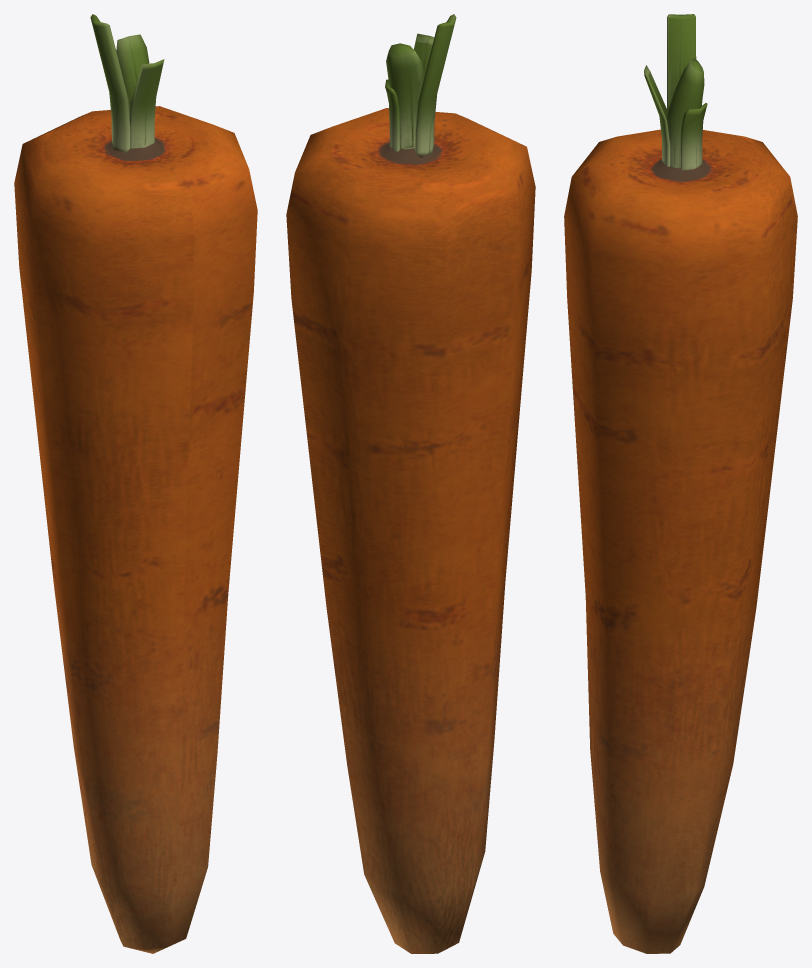
Rendered from carrot.fbx.
3 renders of one model, left to right at view 1: azimuth 30°, elevation 25°; view 2: azimuth 150°, elevation 25°; view 3: azimuth 270°, elevation 25°, orthographic. The views are drawn at different scales.
Parts seen in each view (by area): view 1: carrot:Carrot_LP; view 2: carrot:Carrot_LP; view 3: carrot:Carrot_LP.
Boxes of the visible parts, bbox=[...] form: carrot:Carrot_LP: bbox=[14, 14, 257, 953]; carrot:Carrot_LP: bbox=[286, 14, 535, 953]; carrot:Carrot_LP: bbox=[564, 14, 797, 953].
Size of the model in its own units: 6.07 by 25.63 by 5.89.
Materials: 1 (1 with a texture image).
